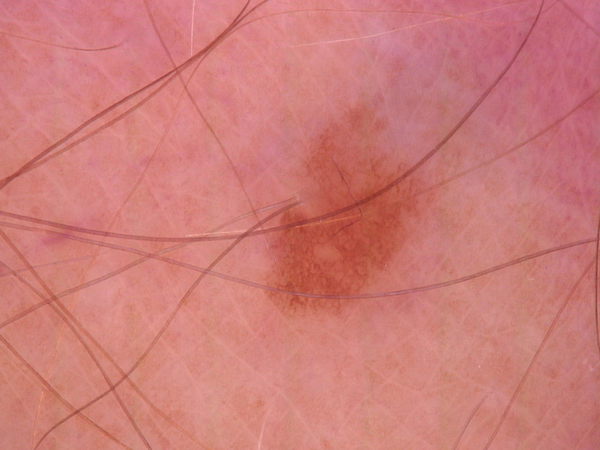Detected Lesion: (259, 106, 428, 325)
